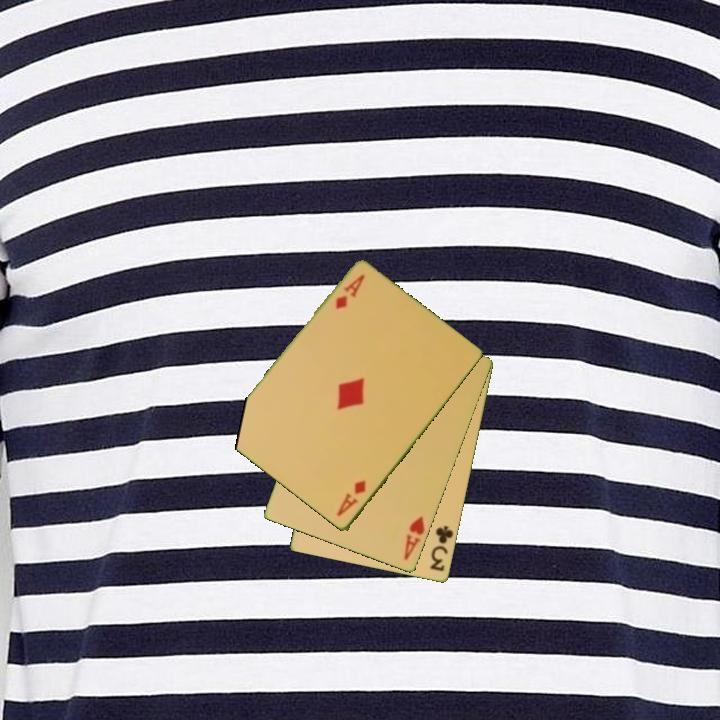3c: (426, 522, 456, 575)
Ad: (333, 477, 369, 519), (332, 271, 368, 312)
Ah: (401, 513, 428, 564)
